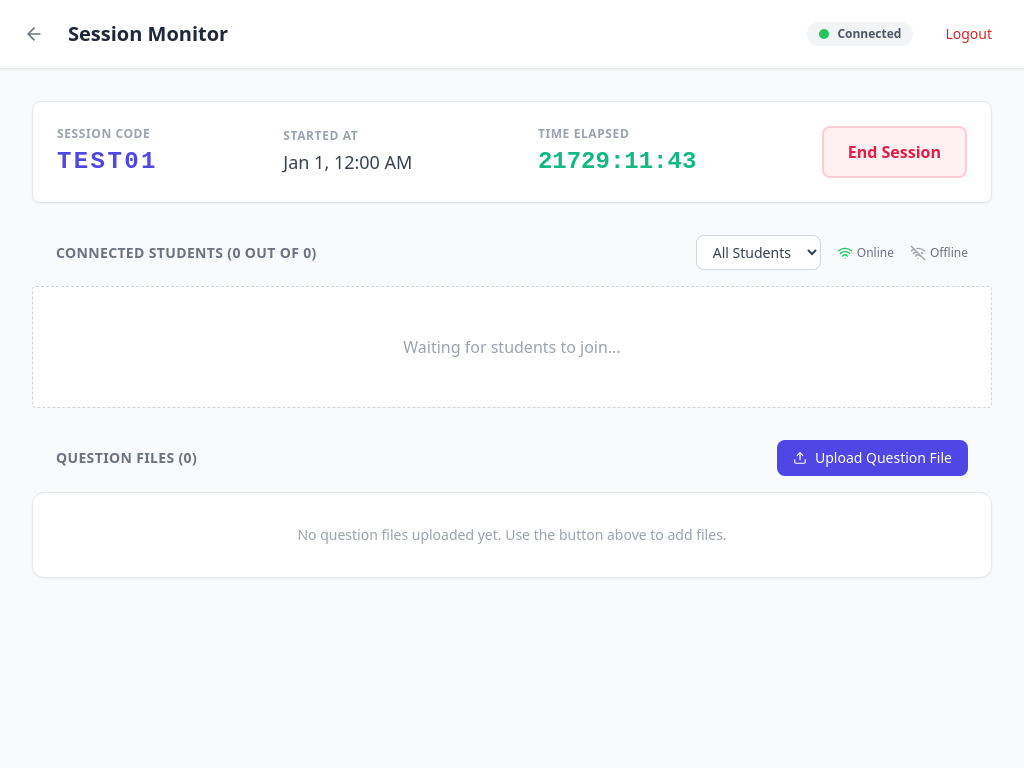
Test: SessionDetail — Reliability & Security › Logout with Active Session Safeguard › should cancel logout when warning modal is dismissed
Click the button "Logout" at (969, 34), box [929,16,1008,52]
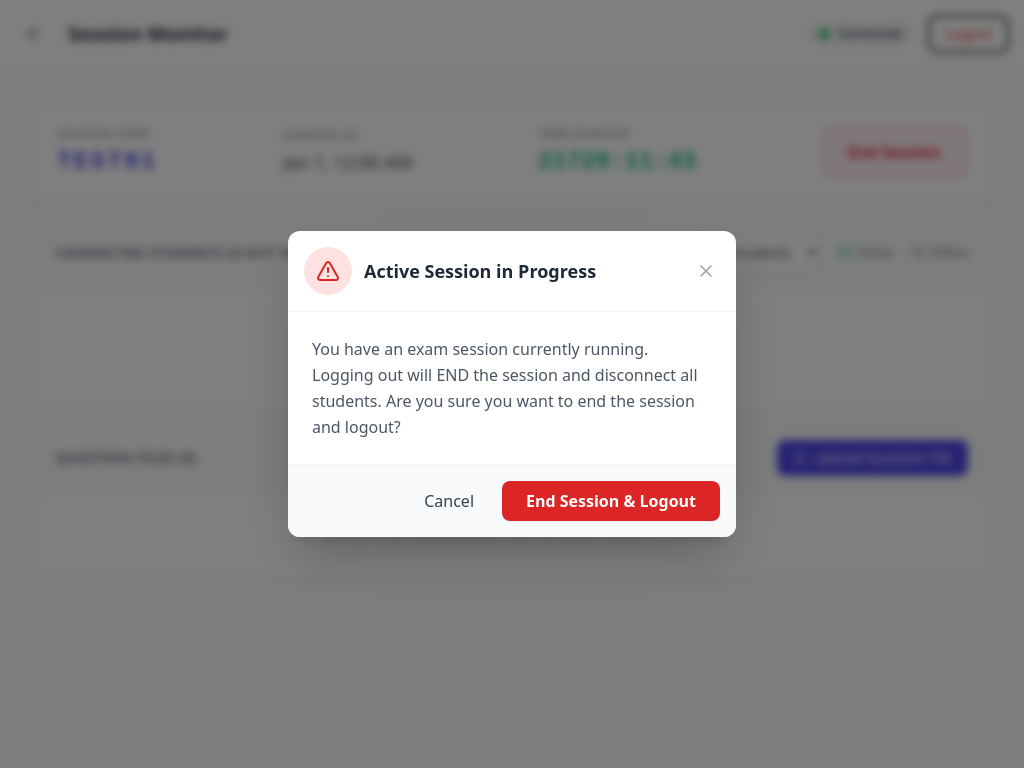
Expected: the text "Active Session in Progress" is shown, [364,259,596,283]
Click the button "Cancel" at (449, 501), box [408,481,490,521]
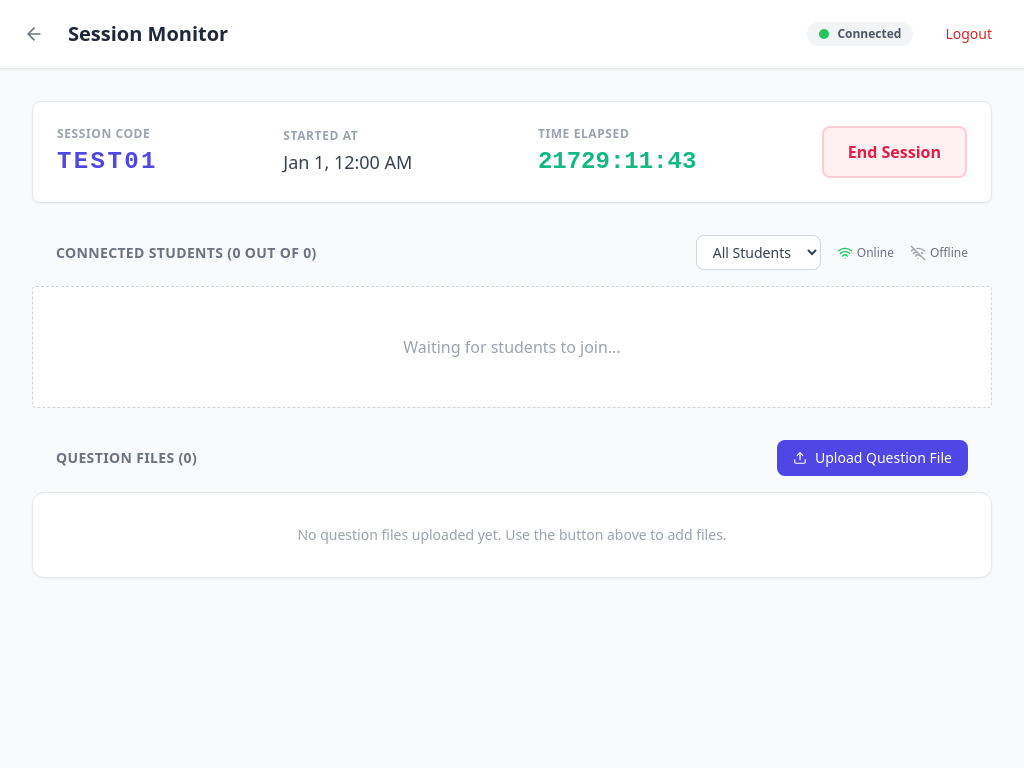
Expected: the text "Active Session in Progress" is gone
